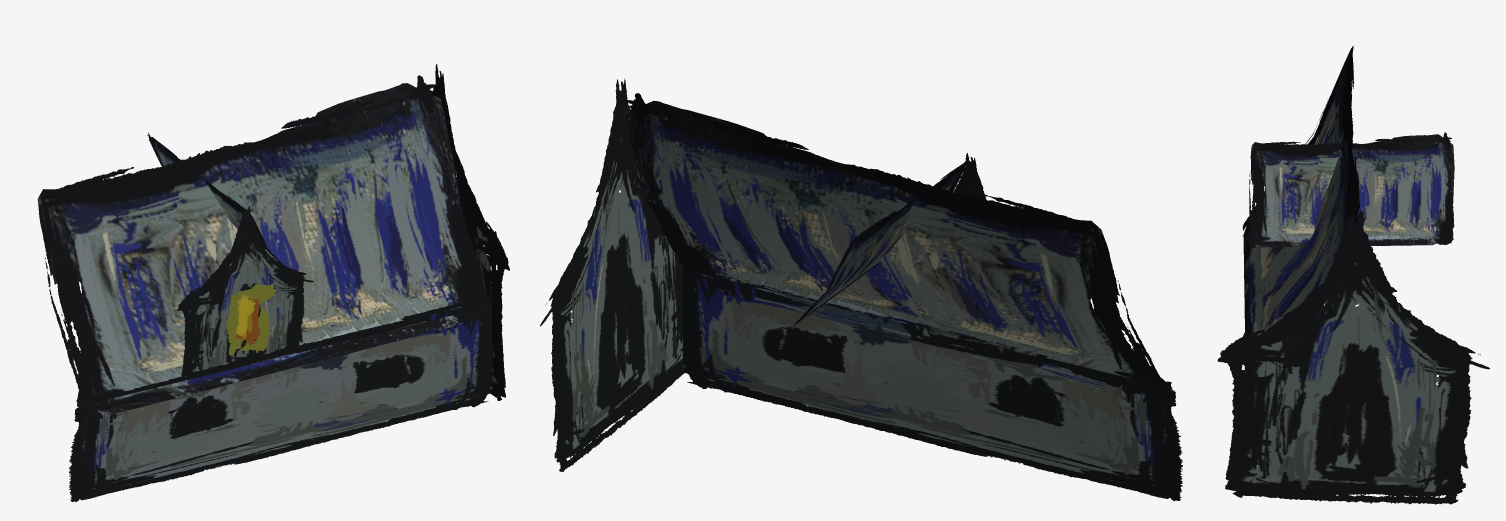
File: house4.FBX
3 renders of one model, left to right at view 1: azimuth 30°, elevation 25°; view 2: azimuth 150°, elevation 25°; view 3: azimuth 270°, elevation 25°, orthographic. The views are drawn at different scales.
Parts seen in each view (by area): view 1: Plane027, Plane028; view 2: Plane027; view 3: Plane027.
Part boxes in pixels (x1,y1,x2,y2): Plane027: [37, 64, 509, 502]; Plane028: [226, 282, 275, 356]; Plane027: [540, 78, 1182, 501]; Plane027: [1217, 46, 1489, 504].
Size of the model in its own units: 570 by 321 by 380.
